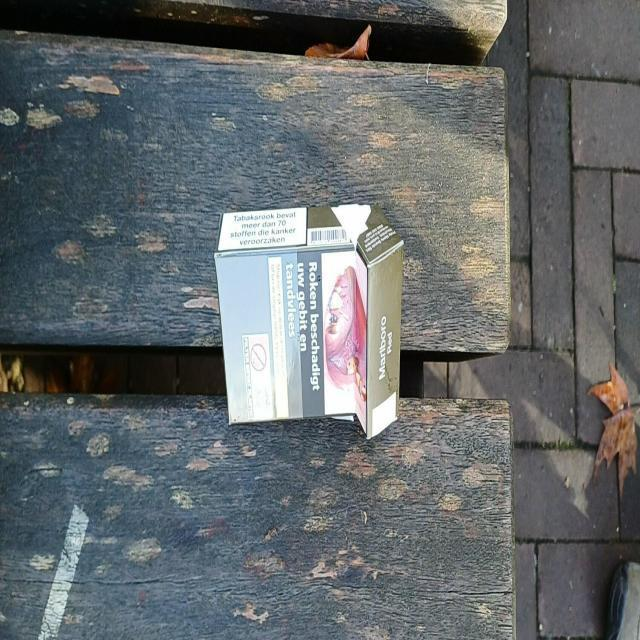Paper: (212, 201, 406, 444)
